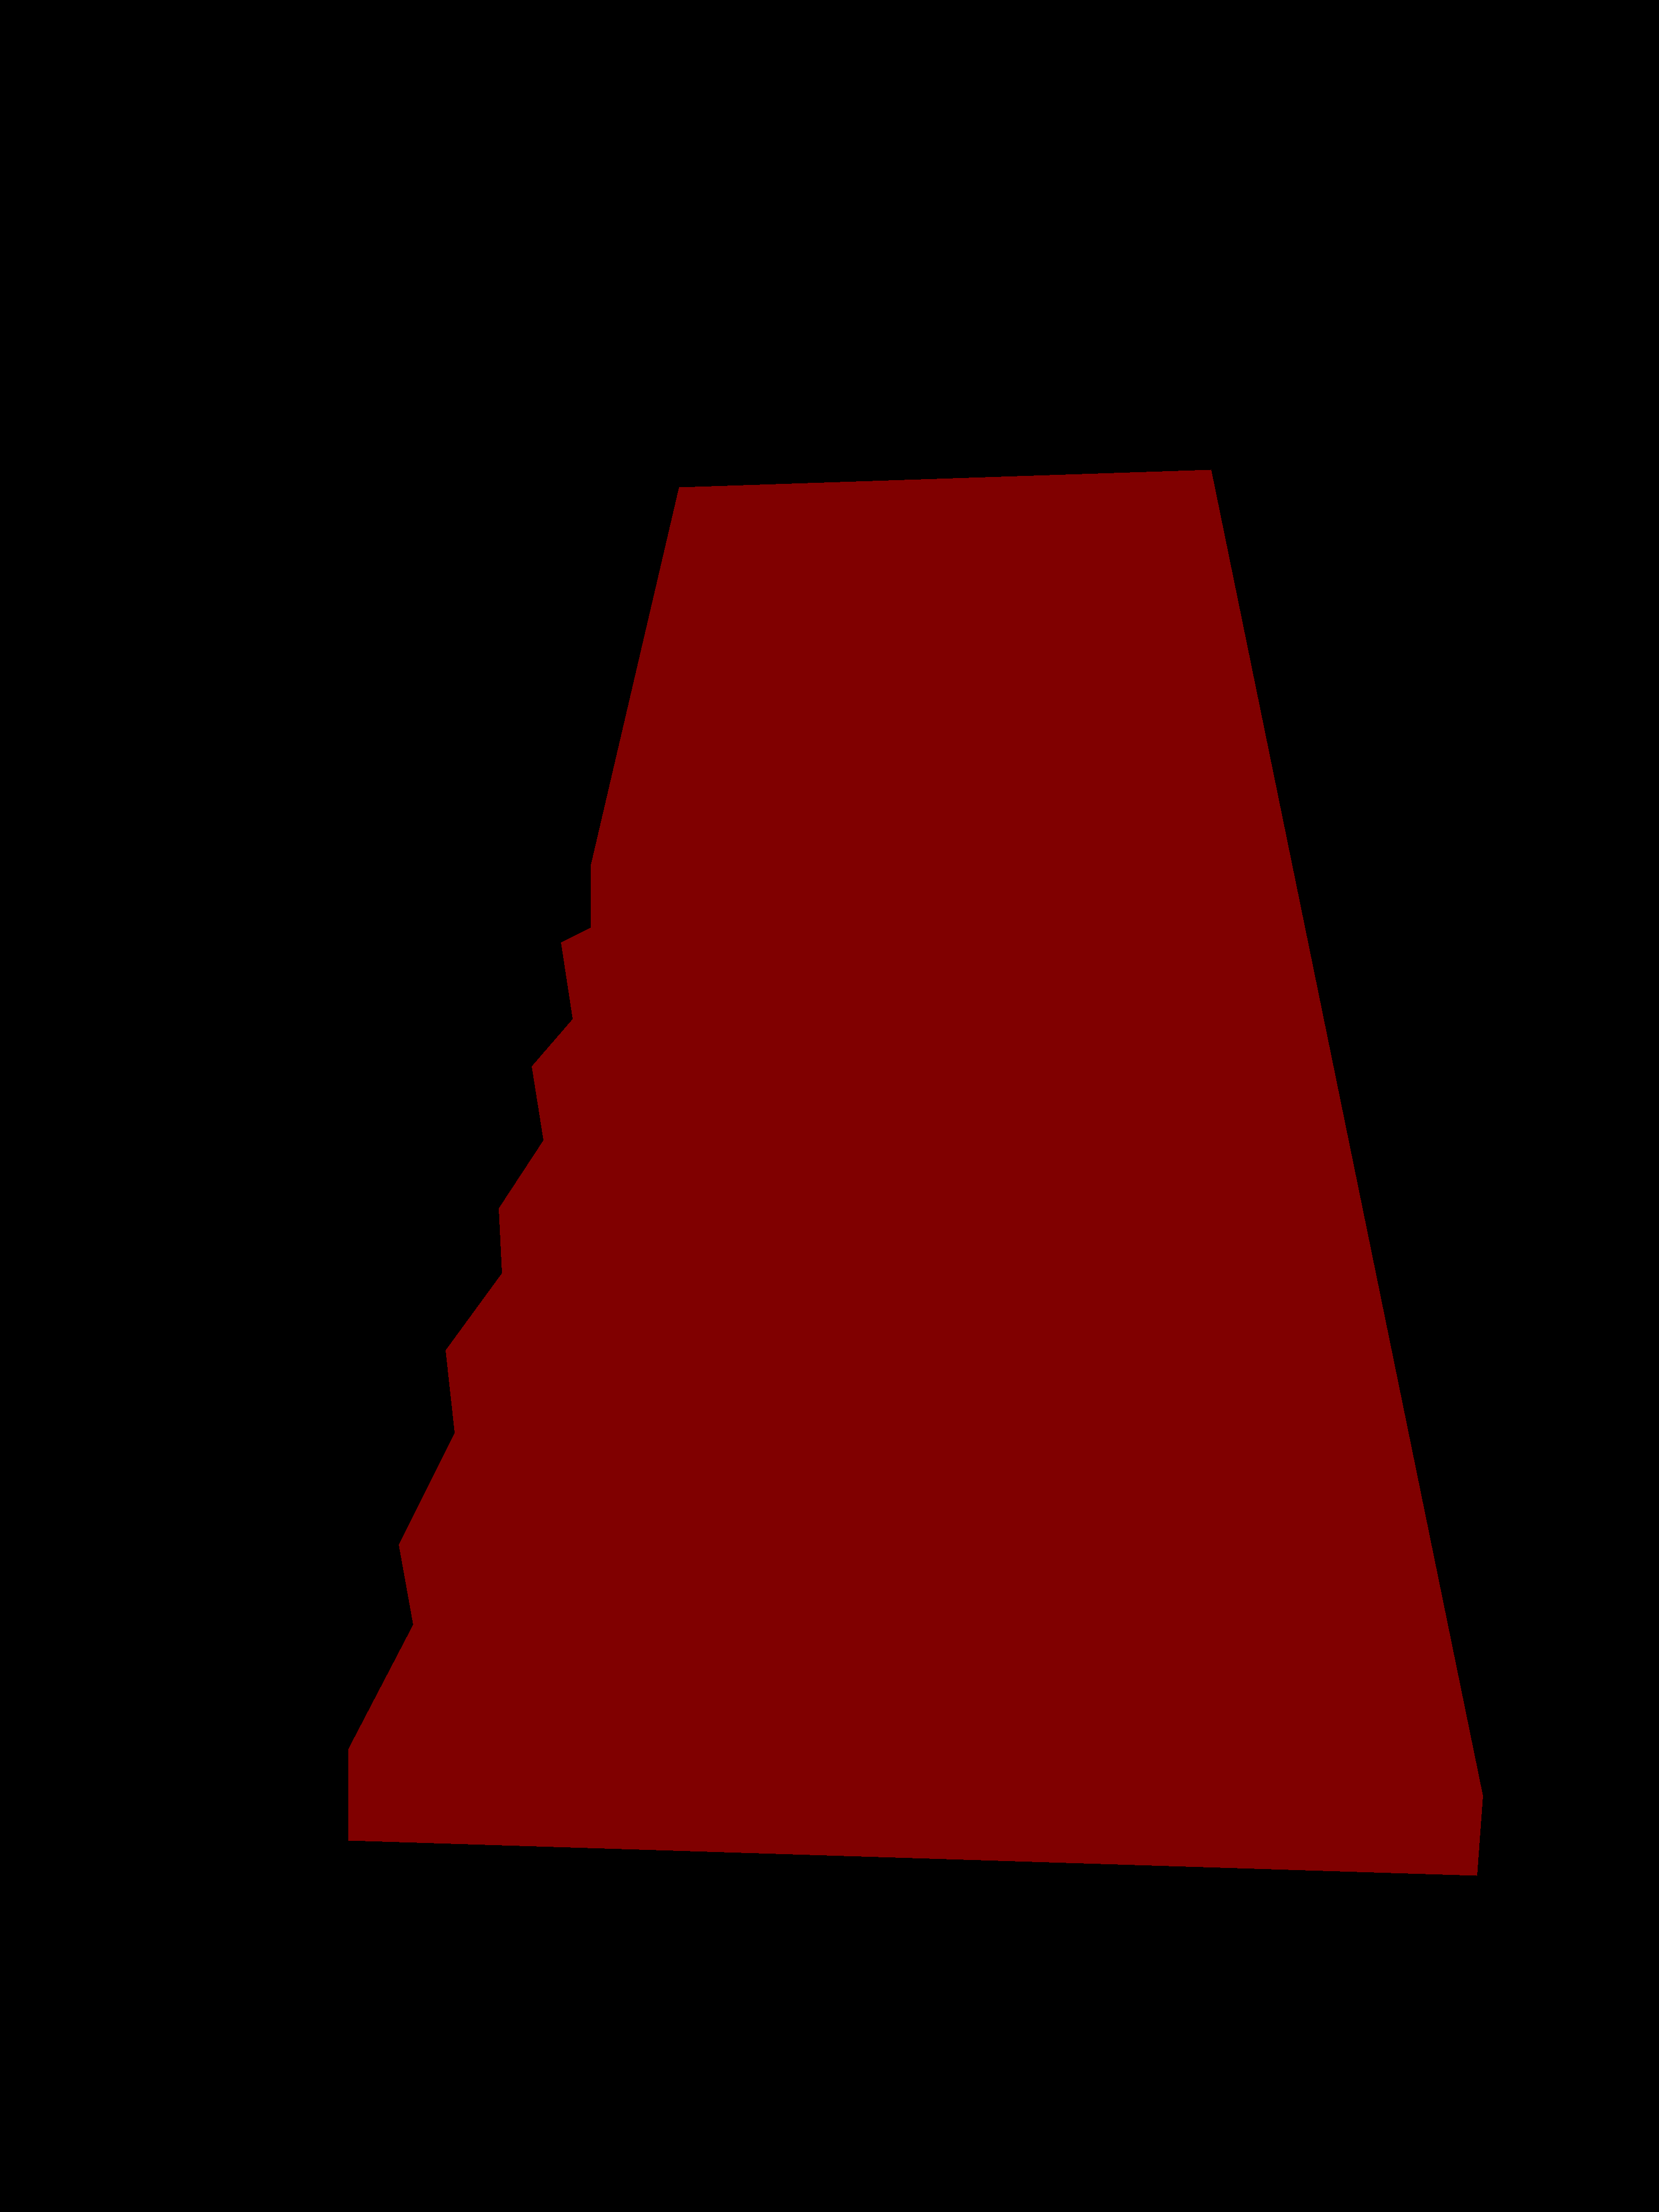stair: (349, 470, 1483, 1876)
